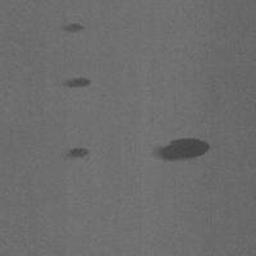Oil spot: (148, 137, 211, 165), (61, 77, 92, 90), (65, 146, 90, 160), (63, 22, 84, 33)
